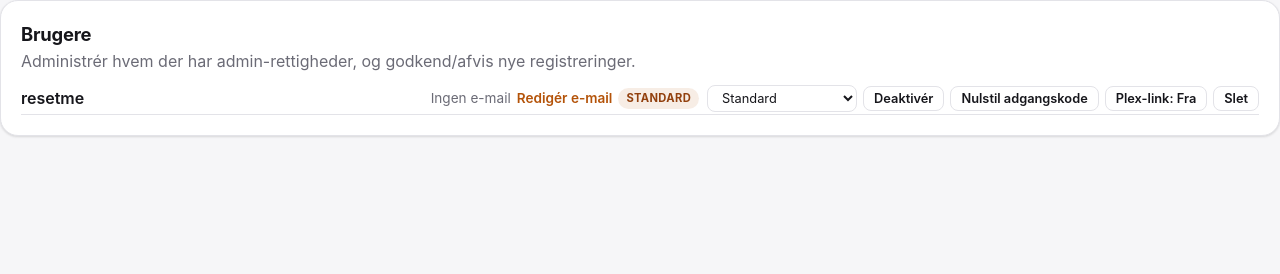
Test case: UsersSection — adgangskode-nulstilling (feature #171) › scroller resultat-banneret i syne (BUGS.md #74)
The width and height of the screenshot is (1280, 274).
What coordinates should you click on to do the following:
click the button "Nulstil adgangskode"
I would click on:
 (1025, 98)
Its box is x1=950 y1=86 x2=1099 y2=111.
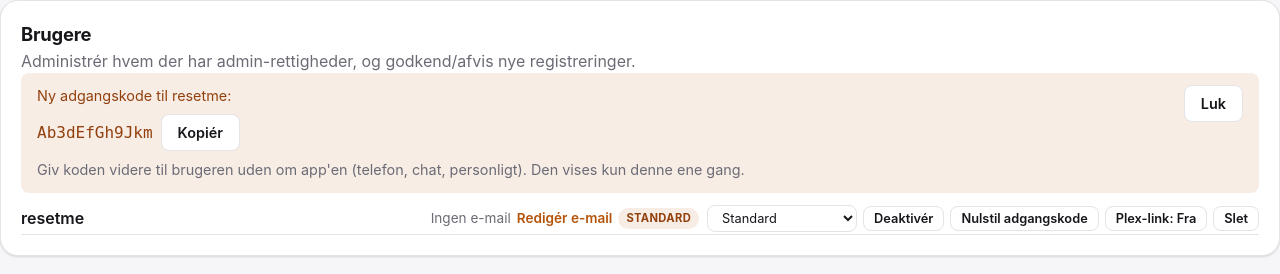
Expected: the text "Ny adgangskode til resetme:" is shown, x1=37 y1=87 x2=231 y2=104
